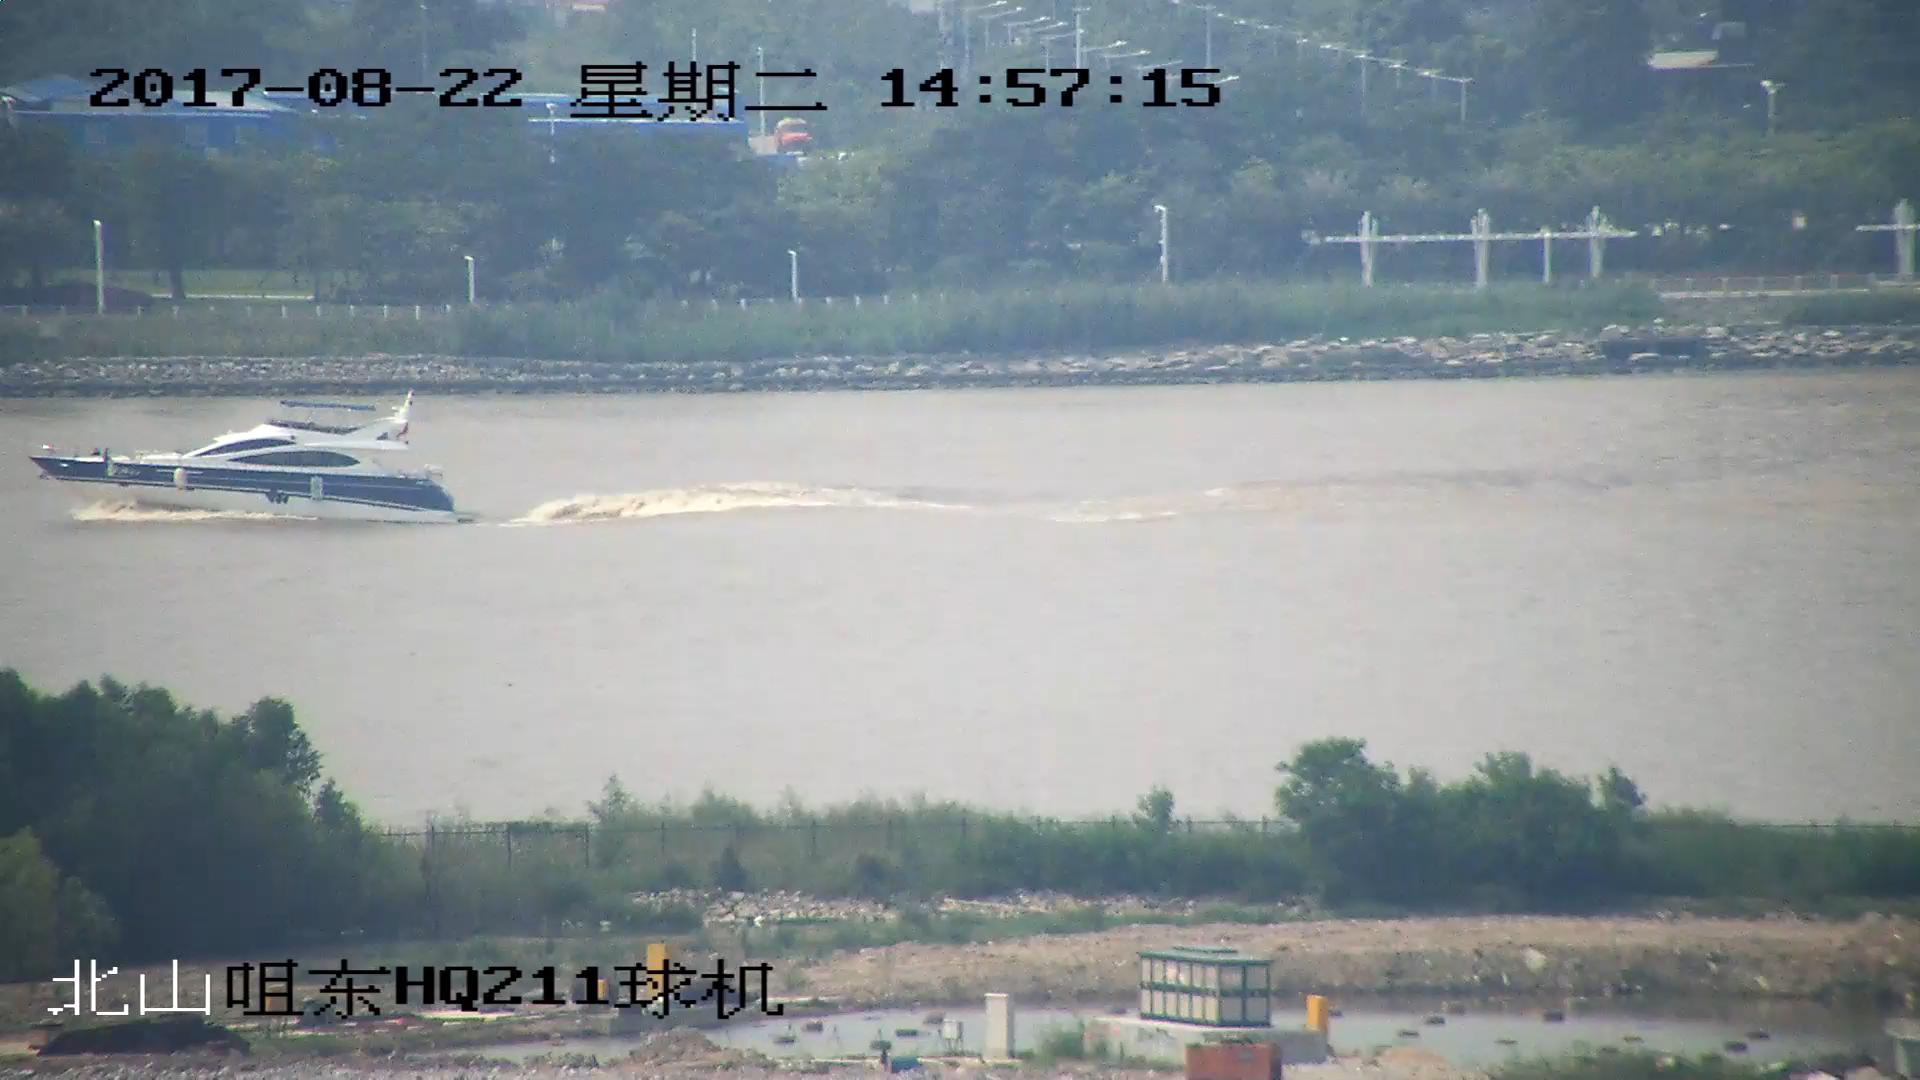passenger ship: (30, 385, 468, 535)
